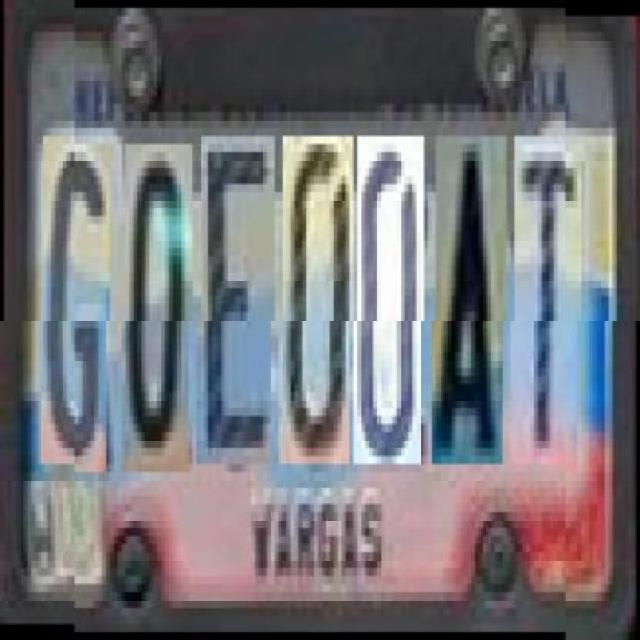0: (282, 136, 353, 464), (358, 136, 424, 464)
a: (436, 136, 506, 464)
e: (200, 136, 275, 464)
g: (42, 144, 110, 471)
o: (125, 144, 193, 471)
t: (514, 136, 581, 464)
